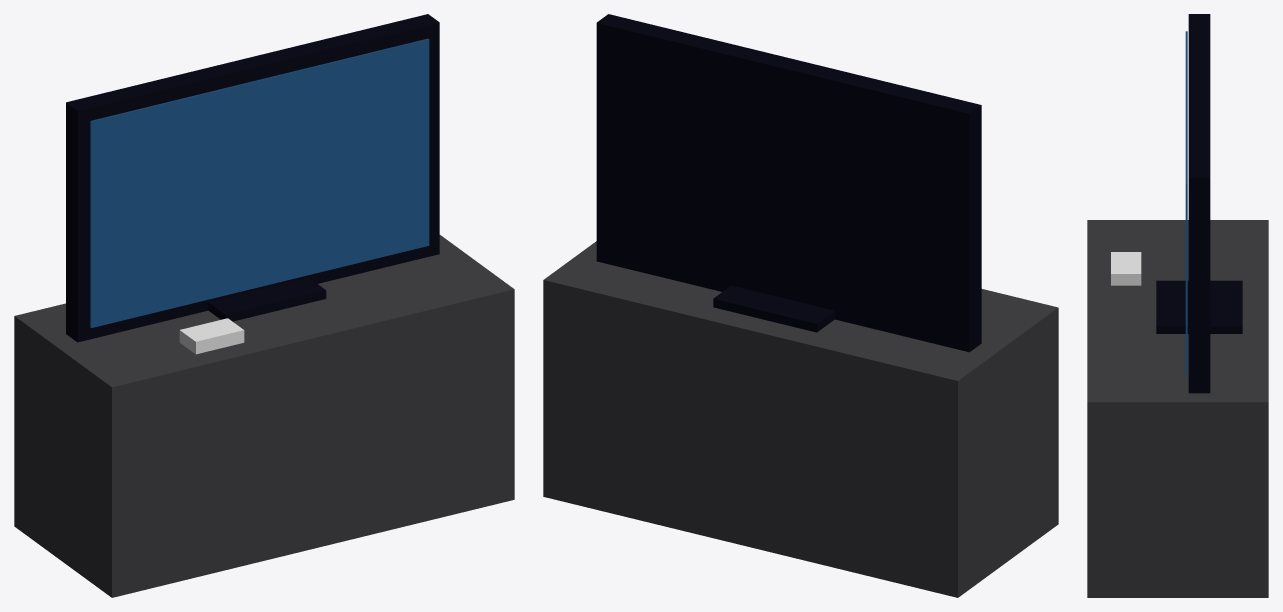
Rendered from game_console.glb.
3 views of the same model, side by side, from view 1: azimuth 30°, elevation 25°; view 2: azimuth 150°, elevation 25°; view 3: azimuth 270°, elevation 25° (orthographic). The views are drawn at different scales.
Visible parts, largest first — view 1: game_console; view 2: game_console; view 3: game_console.
Boxes of the visible parts, left/top/right/bottom form: game_console: left=14, top=14, right=514, bottom=597; game_console: left=543, top=14, right=1058, bottom=597; game_console: left=1087, top=14, right=1268, bottom=597.
Size of the model in its own units: 1 by 1.05 by 0.42.
